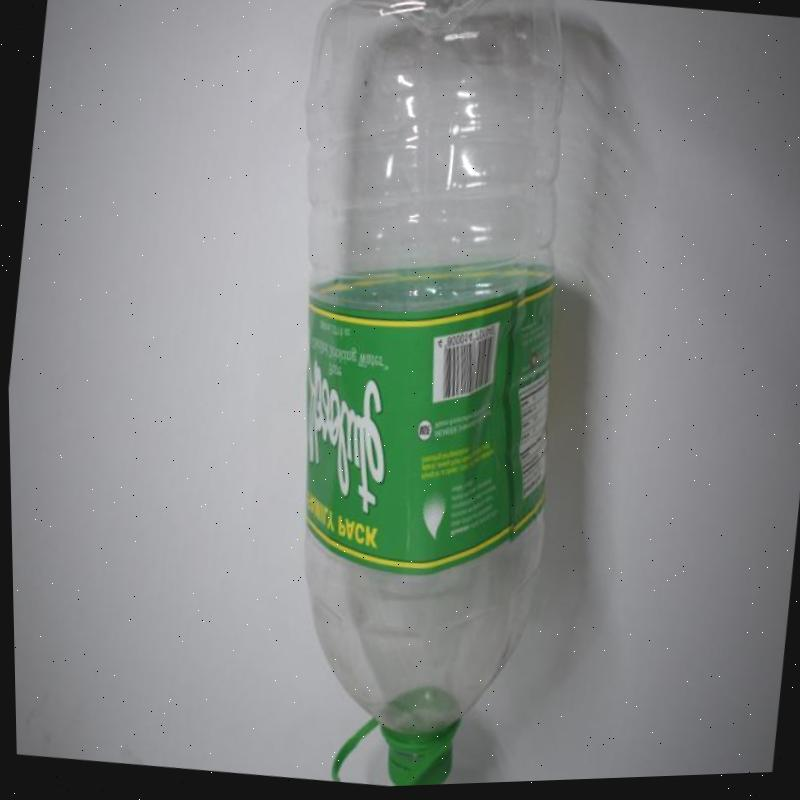botella: (217, 0, 611, 794)
